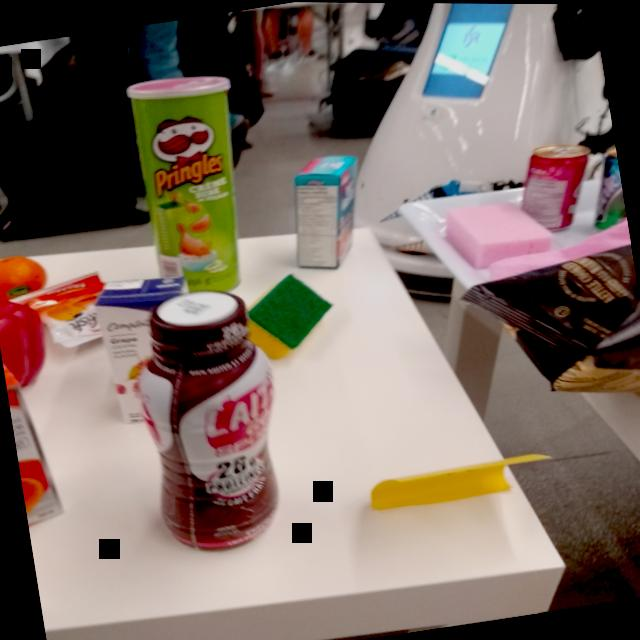cereal: (280, 145, 372, 277)
chocolate_drink: (124, 277, 306, 564)
coke: (515, 140, 596, 237)
crackers: (21, 271, 111, 356)
grape_juice: (95, 269, 205, 425)
orange: (0, 244, 58, 305)
pringles: (119, 63, 267, 303)
scrubby: (234, 268, 347, 369)
sprite: (584, 140, 628, 228)
